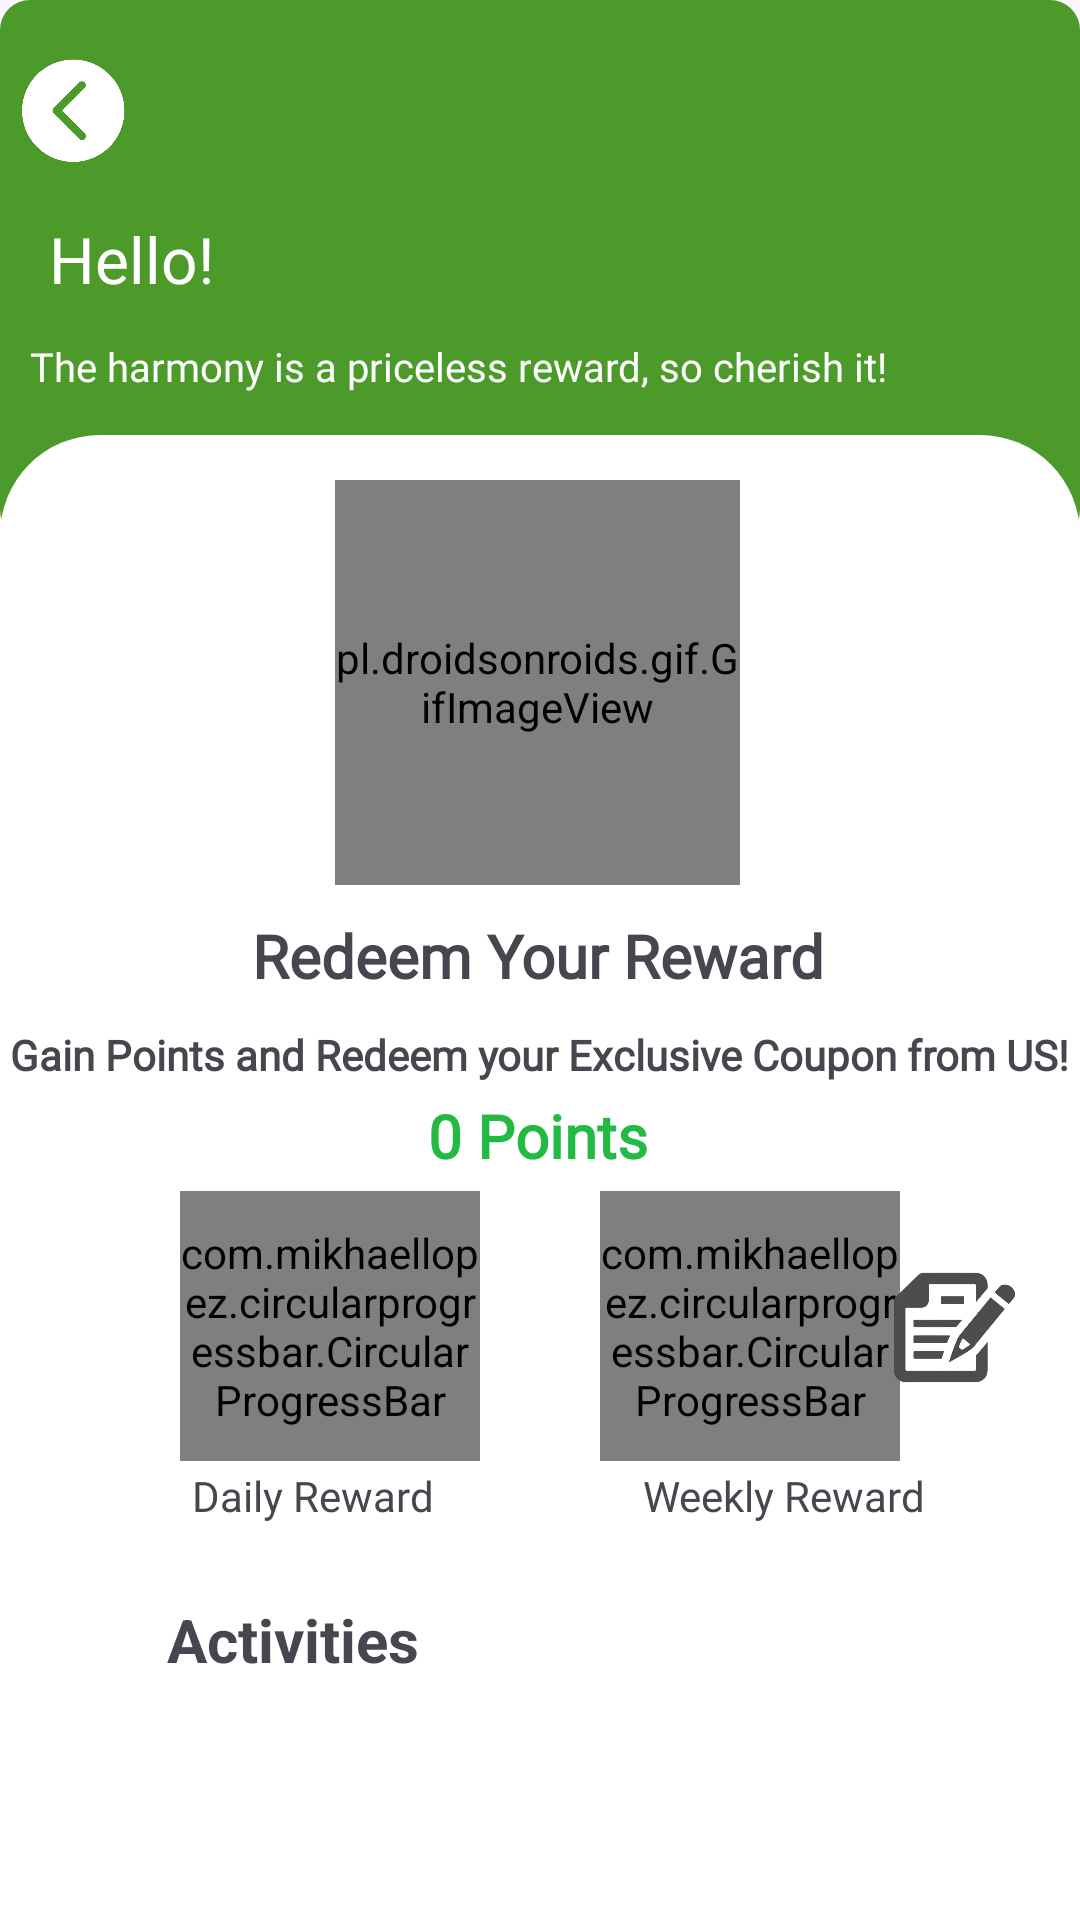

Screen size 1080 x 1920. Icon name, then its box in pixels as (x1, y1, x2, y2):
Back Button: (22, 59, 125, 162)
